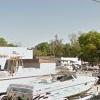Boat: (11, 76, 100, 99)
